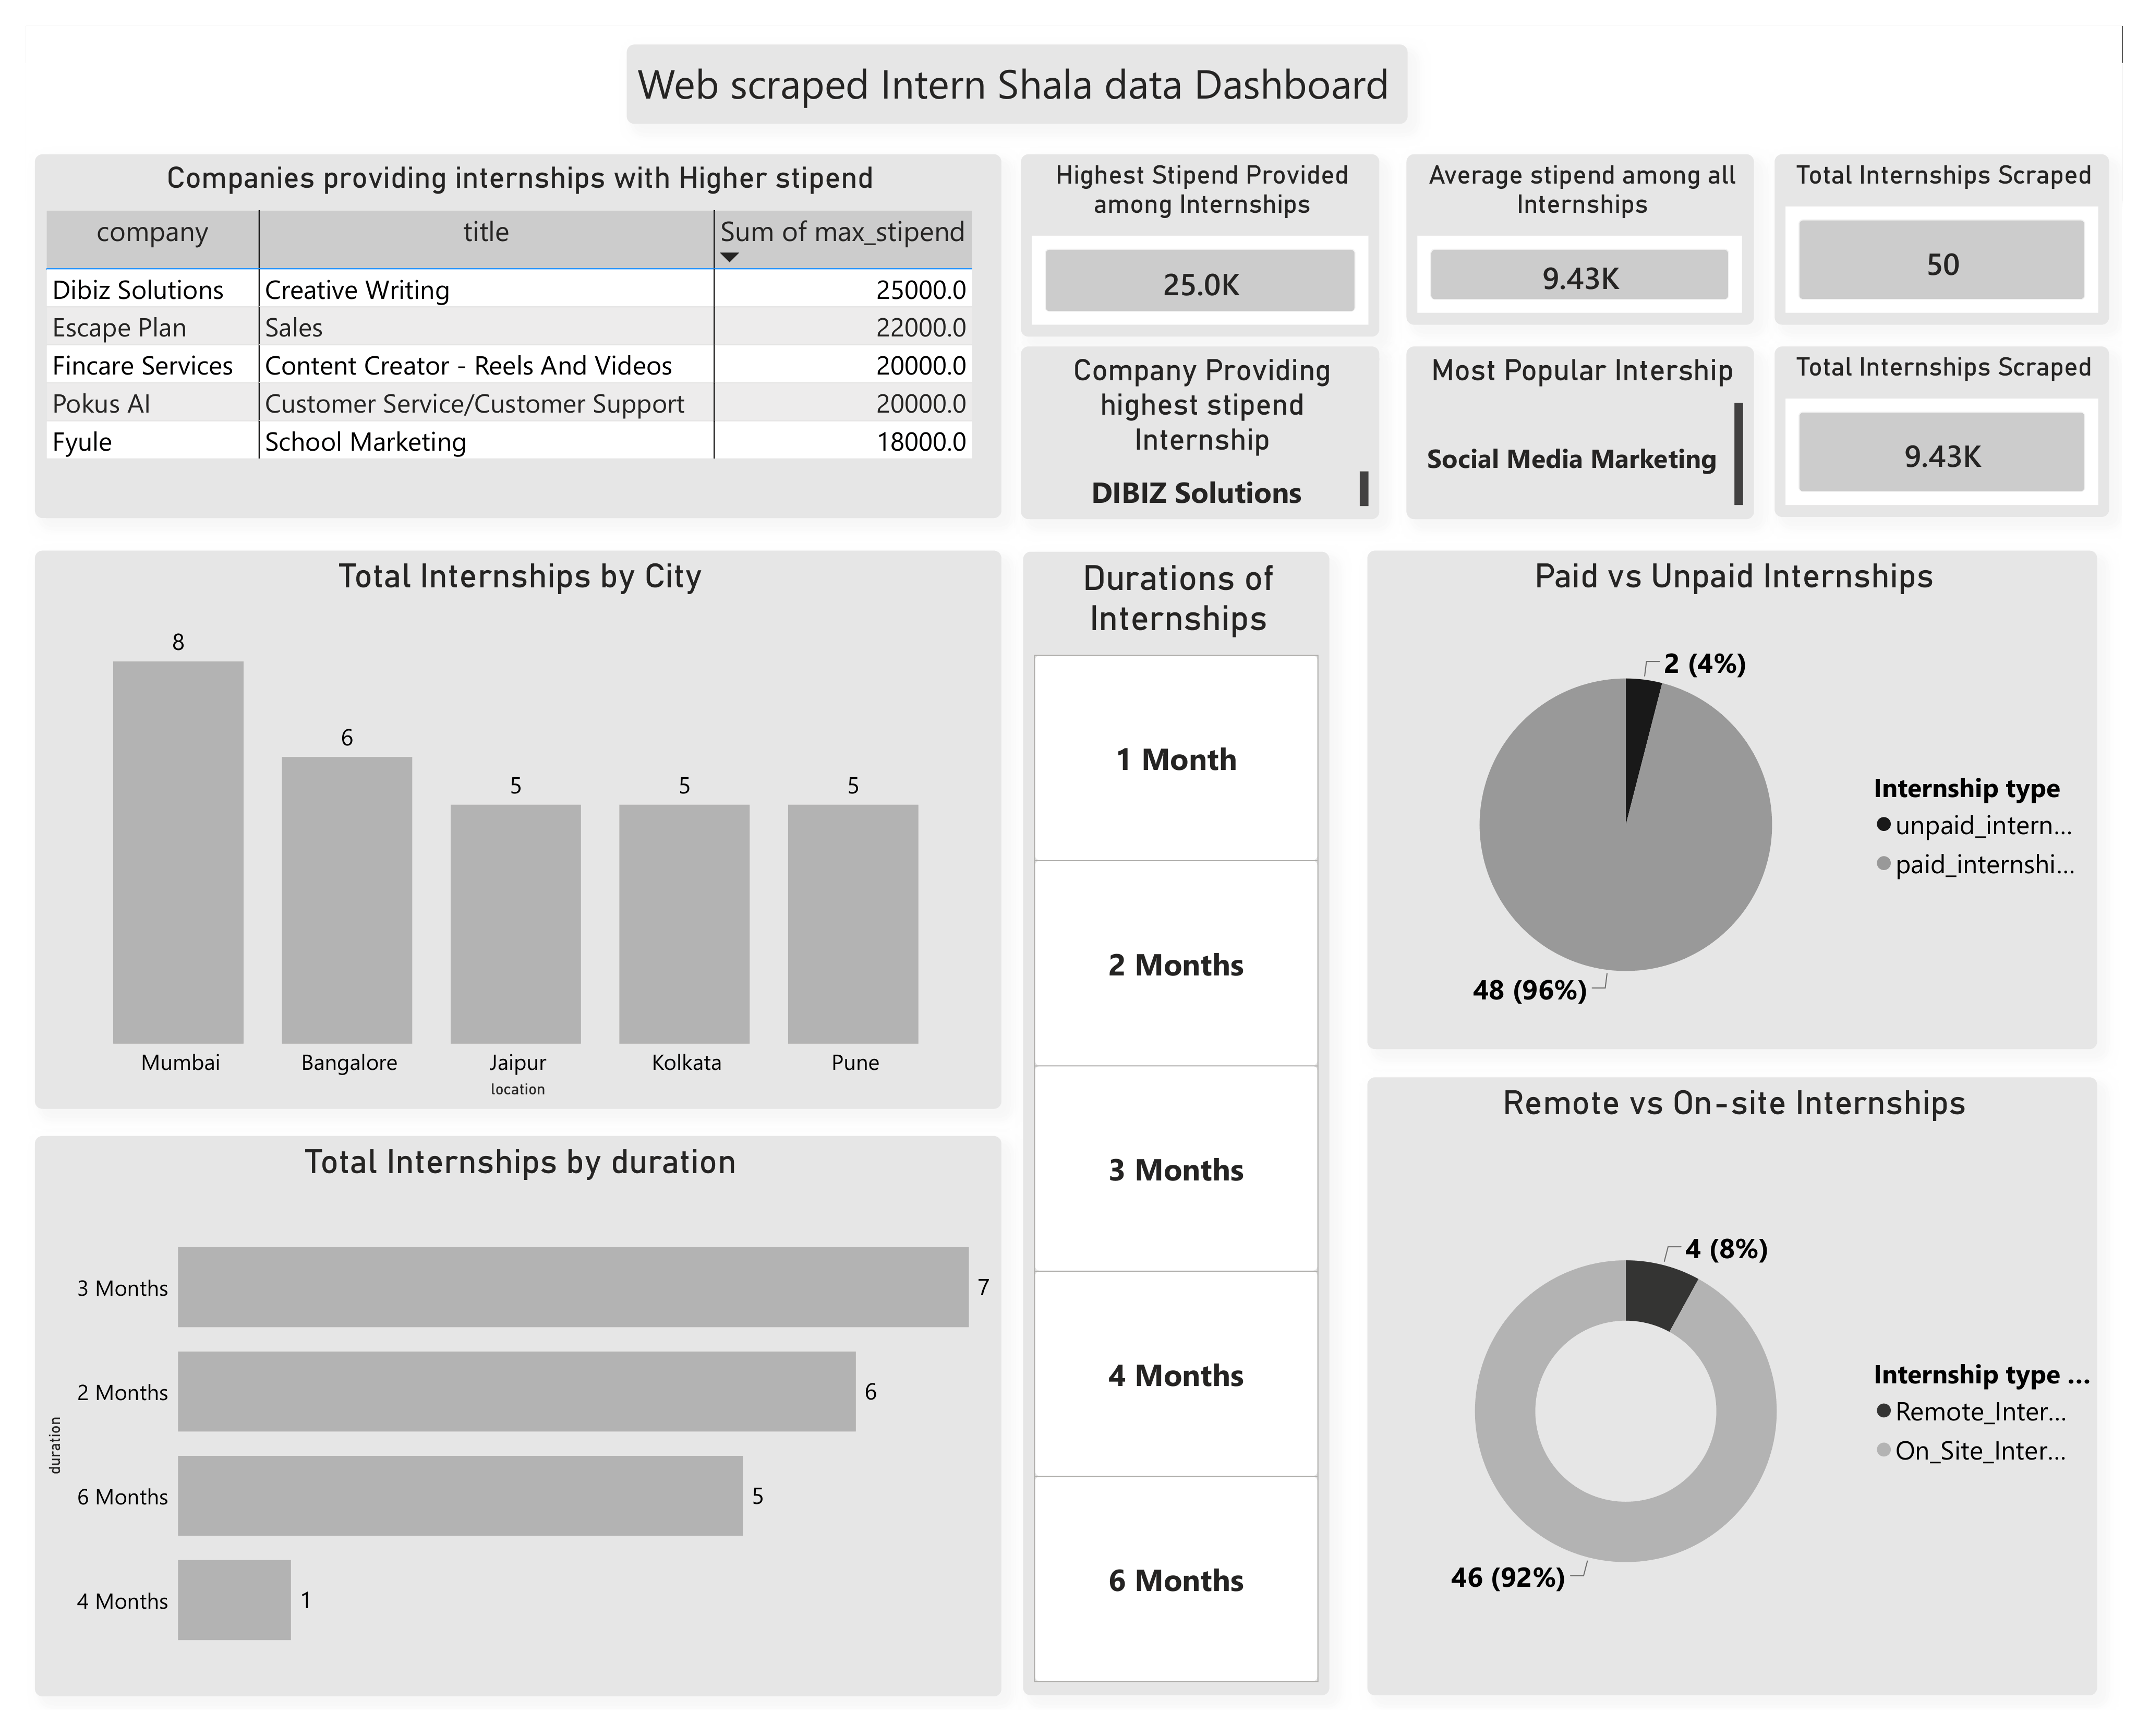

Layout of this report page (visuals, bound fields, positions):
{"tool":"powerbi","page":{"name":"Page 1","canvas":[1930,1550],"ordinal":0},"visuals":[{"type":"textbox","box":[553.3,16.7,718.3,73.3],"z":0},{"type":"tableEx","title":"Companies  providing internships with Higher stipend","fields":{"Values":["public internship_data.company","public internship_data.title","Sum(public internship_data.max_stipend)"]},"box":[8.3,118.3,890,335],"z":1000},{"type":"cardVisual","title":"Highest Stipend Provided among Internships","fields":{"Data":["Max(public internship_data.max_stipend)"]},"box":[916.1,117.9,330.4,167.9],"z":2000},{"type":"textbox","title":" Company Providing       highest  stipend Internship","box":[916.1,294.6,330.4,158.9],"z":3000},{"type":"clusteredColumnChart","title":"Total Internships by City","fields":{"Y":["CountNonNull(public internship_data.title)"],"Category":["public internship_data.location"]},"box":[8.3,483.3,890,513.3],"z":4000},{"type":"cardVisual","title":"Average stipend among all Internships","fields":{"Data":["Avg(public internship_data.average_stipend)"]},"box":[1271.4,117.9,319.6,157.1],"z":5000},{"type":"barChart","title":"Total Internships by duration","fields":{"Category":["public internship_data.duration"],"Y":["CountNonNull(public internship_data.title)"]},"box":[8.3,1021.7,890,516.7],"z":6000},{"type":"textbox","title":"Most Popular Intership","box":[1271.4,294.6,319.6,158.9],"z":7000},{"type":"advancedSlicerVisual","title":"Durations of Internships","fields":{"Values":["public internship_data.duration"]},"box":[917.9,483.9,282.1,1053.6],"z":8000},{"type":"cardVisual","title":"Total Internships Scraped","fields":{"Data":["CountNonNull(public internship_data.title)"]},"box":[1610,118.3,308.3,156.7],"z":9000},{"type":"cardVisual","title":"Total Internships Scraped","fields":{"Data":["public internship_data.Overall_Average_stipend"]},"box":[1610,295,308.3,156.7],"z":10000},{"type":"pieChart","title":"Paid vs Unpaid Internships","fields":{"Y":["public internship_data.unpaid_internships","public internship_data.paid_internships"]},"box":[1235,483.3,671.7,458.3],"z":11000},{"type":"donutChart","title":"Remote vs On-site Internships","fields":{"Y":["public internship_data.Remote_Internships","public internship_data.On_Site_Internship"]},"box":[1235,968.3,671.7,568.3],"z":12000}]}

Visuals, with their boxes on the page's 1930x1550 design canvas (x1, y1, x2, y2). These are canvas units, not pixel positions in the 2149x1736 screenshot, which may show the page scaled, cropped or inside an application window:
textbox: (x1=553, y1=17, x2=1272, y2=90)
"Companies  providing internships with Higher stipend" tableEx: (x1=8, y1=118, x2=898, y2=453)
"Highest Stipend Provided among Internships" cardVisual: (x1=916, y1=118, x2=1246, y2=286)
" Company Providing       highest  stipend Internship" textbox: (x1=916, y1=295, x2=1246, y2=454)
"Total Internships by City" clusteredColumnChart: (x1=8, y1=483, x2=898, y2=997)
"Average stipend among all Internships" cardVisual: (x1=1271, y1=118, x2=1591, y2=275)
"Total Internships by duration" barChart: (x1=8, y1=1022, x2=898, y2=1538)
"Most Popular Intership" textbox: (x1=1271, y1=295, x2=1591, y2=454)
"Durations of Internships" advancedSlicerVisual: (x1=918, y1=484, x2=1200, y2=1538)
"Total Internships Scraped" cardVisual: (x1=1610, y1=118, x2=1918, y2=275)
"Total Internships Scraped" cardVisual: (x1=1610, y1=295, x2=1918, y2=452)
"Paid vs Unpaid Internships" pieChart: (x1=1235, y1=483, x2=1907, y2=942)
"Remote vs On-site Internships" donutChart: (x1=1235, y1=968, x2=1907, y2=1537)
